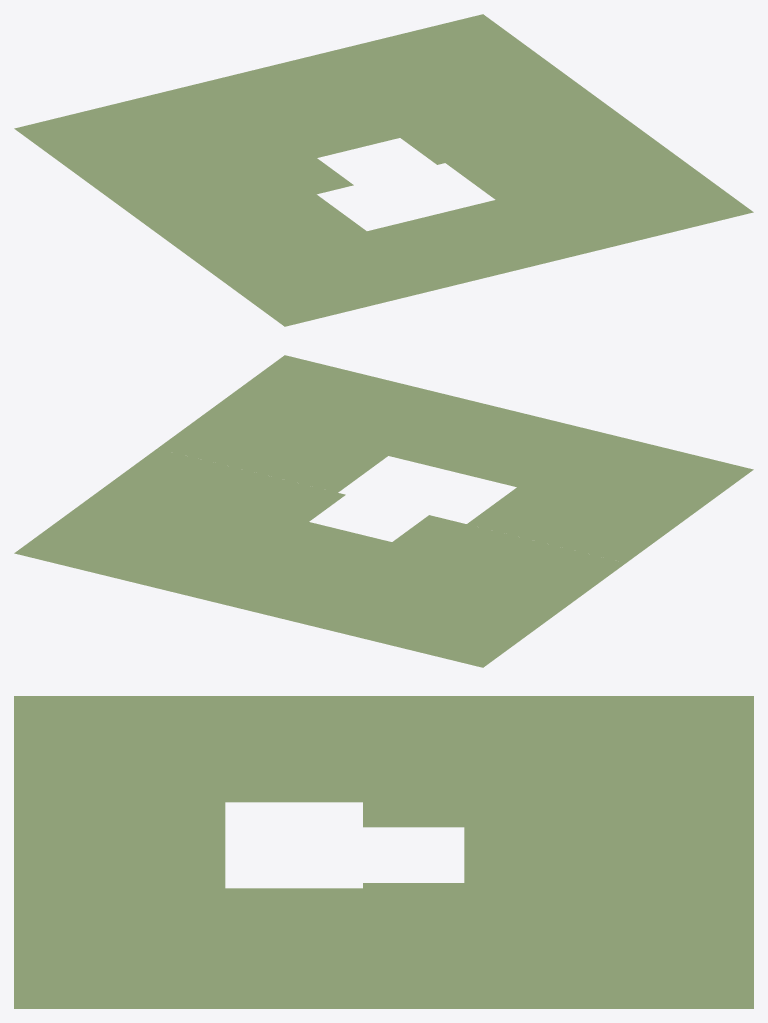
File: HK_GroundFar.glb
The picture shows the model from 3 angles, top to bottom: view 1: azimuth 30°, elevation 25°; view 2: azimuth 150°, elevation 25°; view 3: azimuth 270°, elevation 25°; orthographic projection. The views are drawn at different scales.
Parts seen in each view (by area): view 1: HK_GroundFar; view 2: HK_GroundFar; view 3: HK_GroundFar.
Boxes of the visible parts, x1,y1,x2,y2 form: HK_GroundFar: (14, 14, 753, 326); HK_GroundFar: (14, 355, 753, 667); HK_GroundFar: (14, 696, 753, 1008).
Bounding box in the file's own units: 1400 × 0.05 × 1400.
